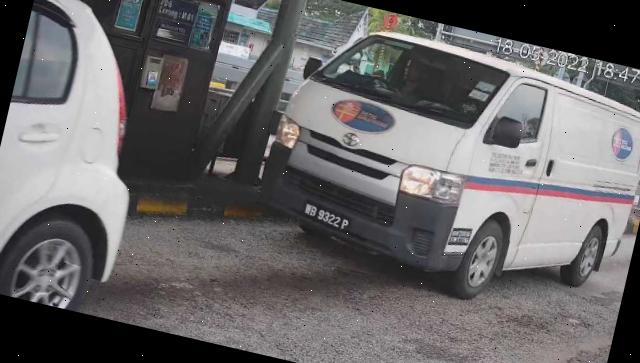License_Plate: (301, 201, 354, 235)
van: (245, 11, 640, 333)
